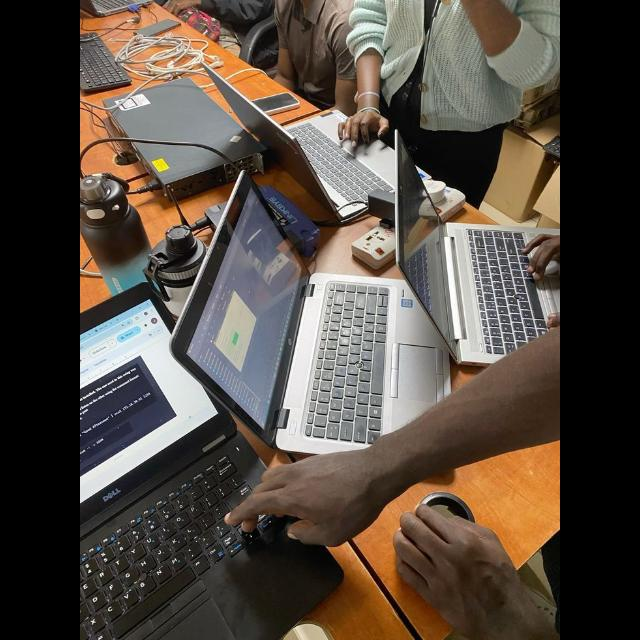laptop: (80, 284, 342, 639), (171, 173, 450, 454), (394, 138, 560, 365), (207, 69, 394, 219)
